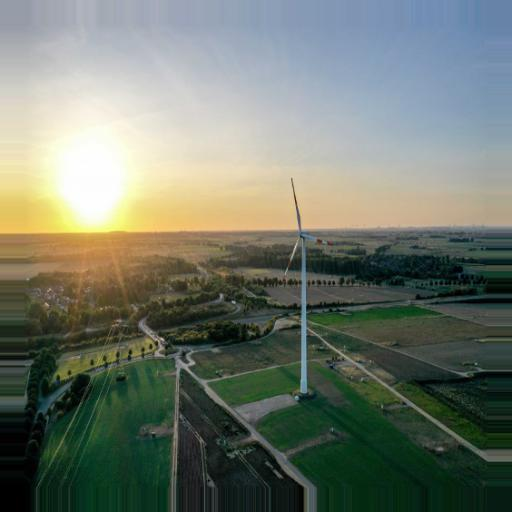wind turbine: (278, 178, 336, 393)
